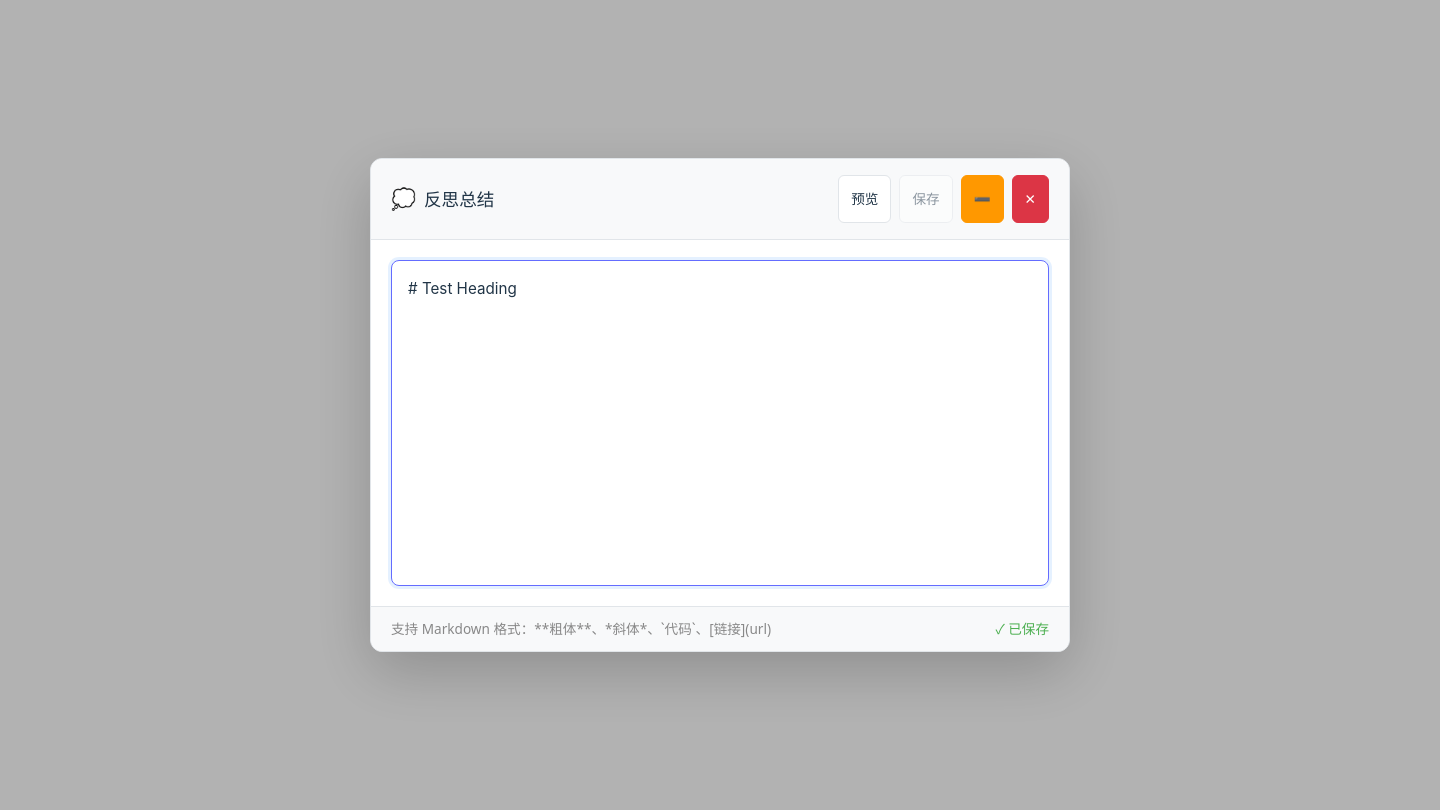
Test: ReflectionModal › toggles between edit and preview mode
Click the button "预览" at (865, 199), box [838,175,892,223]
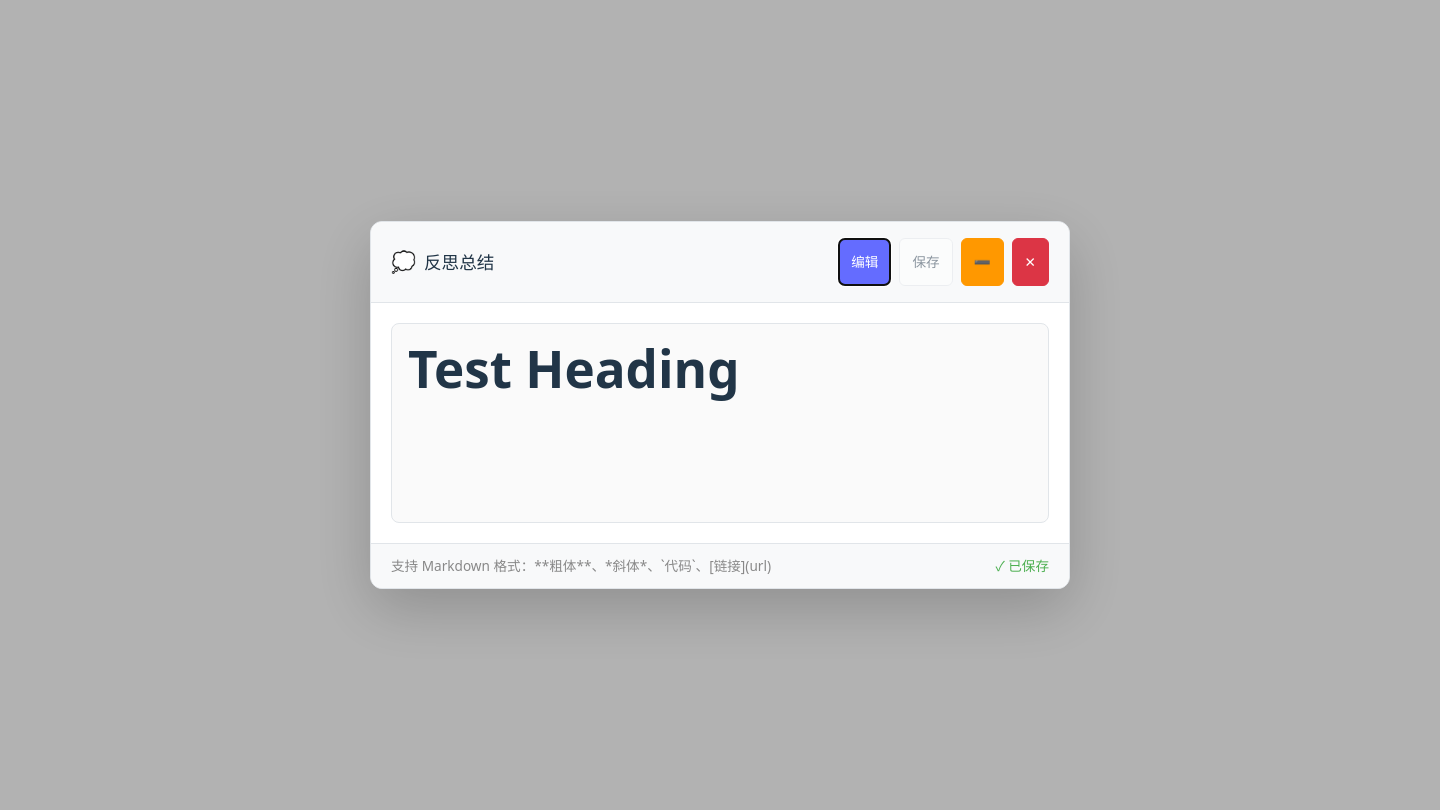
Now the button "编辑" is shown, box [838,238,892,286]
